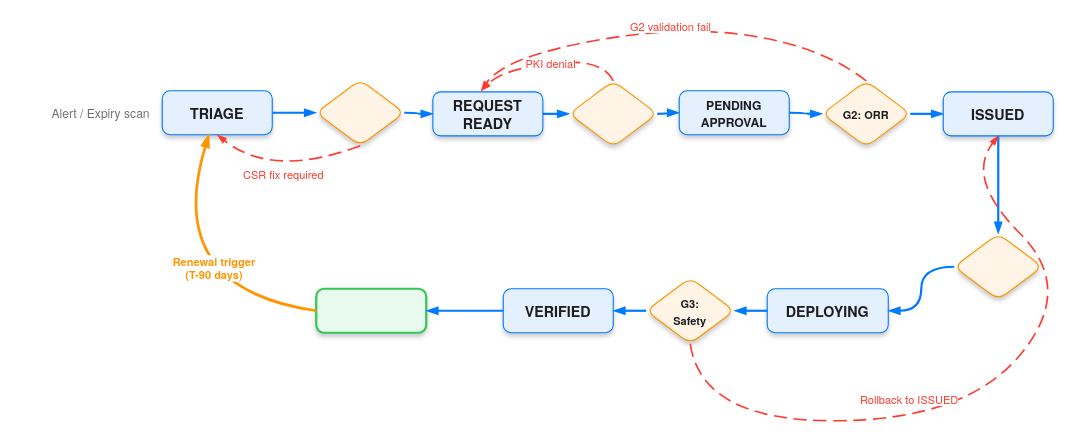
This 1077x441 diagram has some shape labels left out. Here are the shapes that lost their labels. From the top down, the centre of each, then its label:
At pixel 360 113: "G1: CSR lint".
At pixel 613 115: "PKI approve".
At pixel 998 267: "Canary deploy".
At pixel 370 312: "CLOSED".
